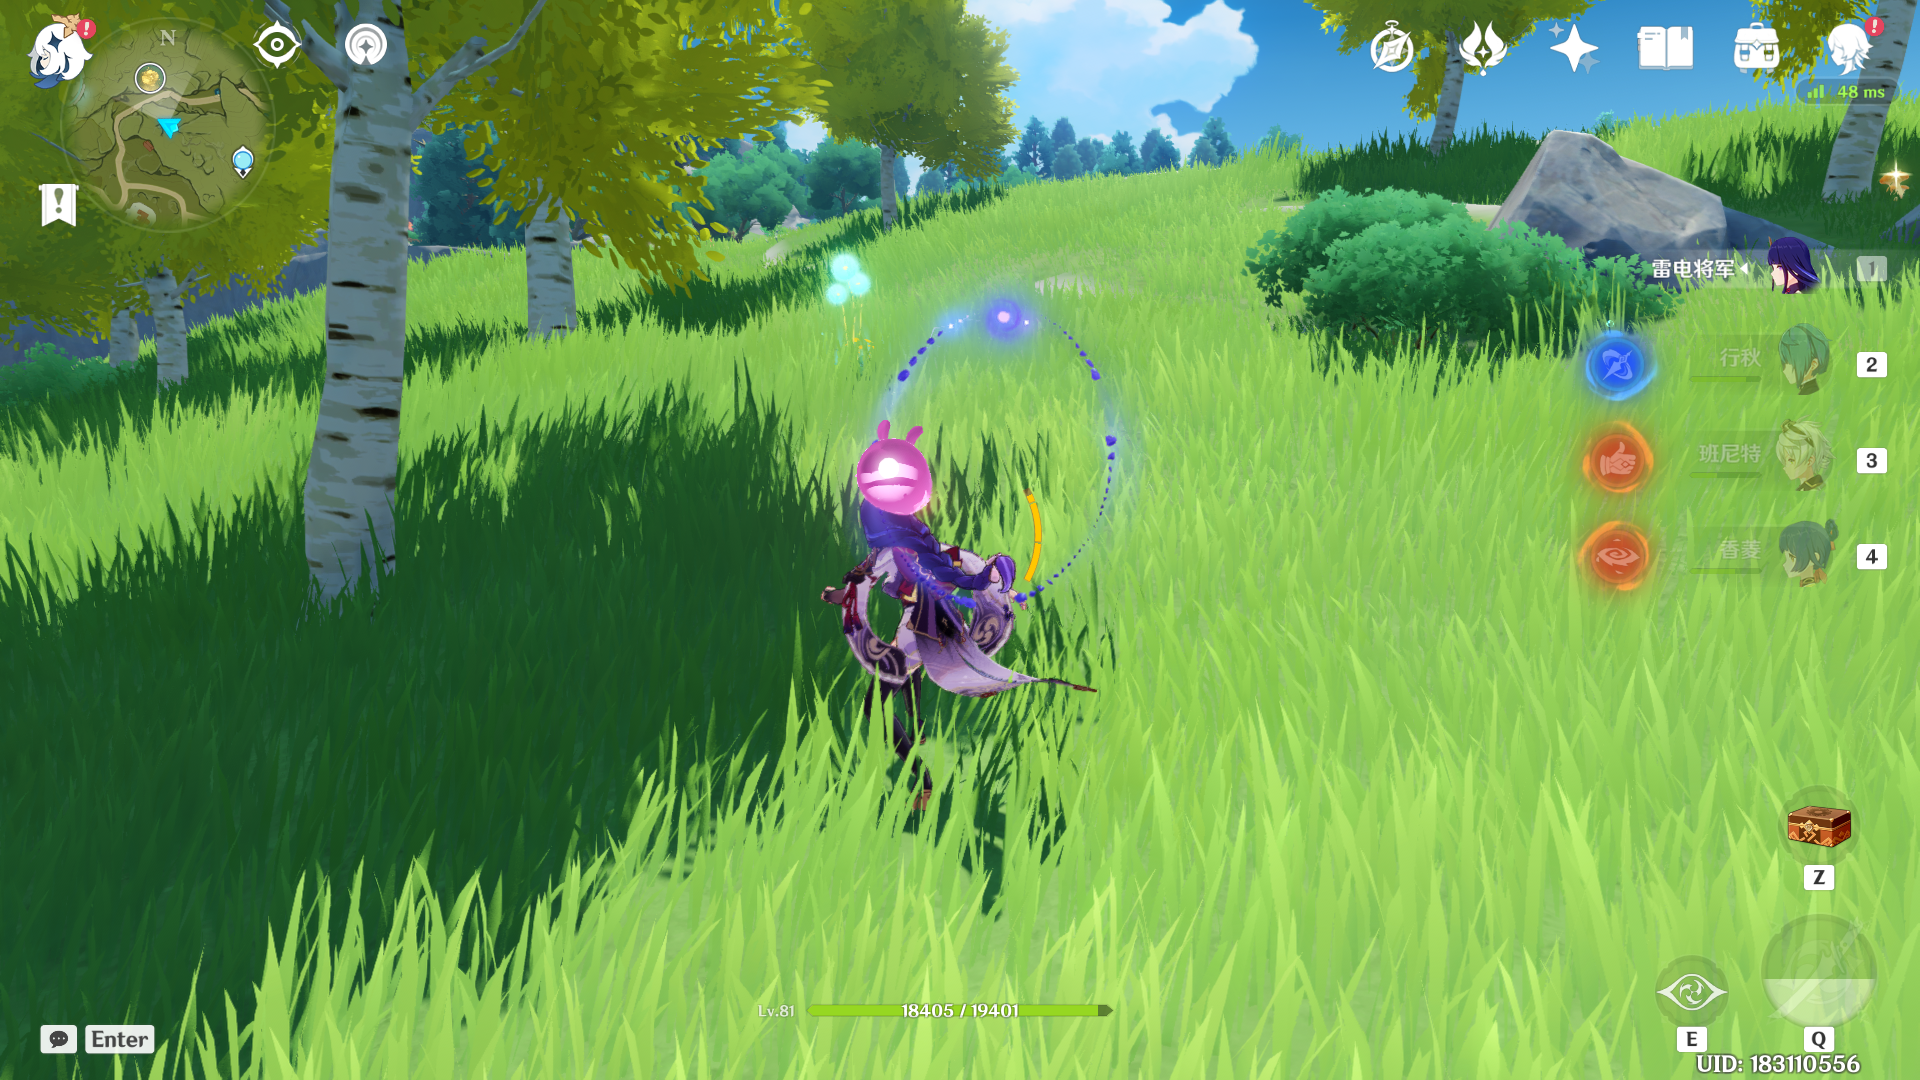character: (795, 414, 1095, 773)
